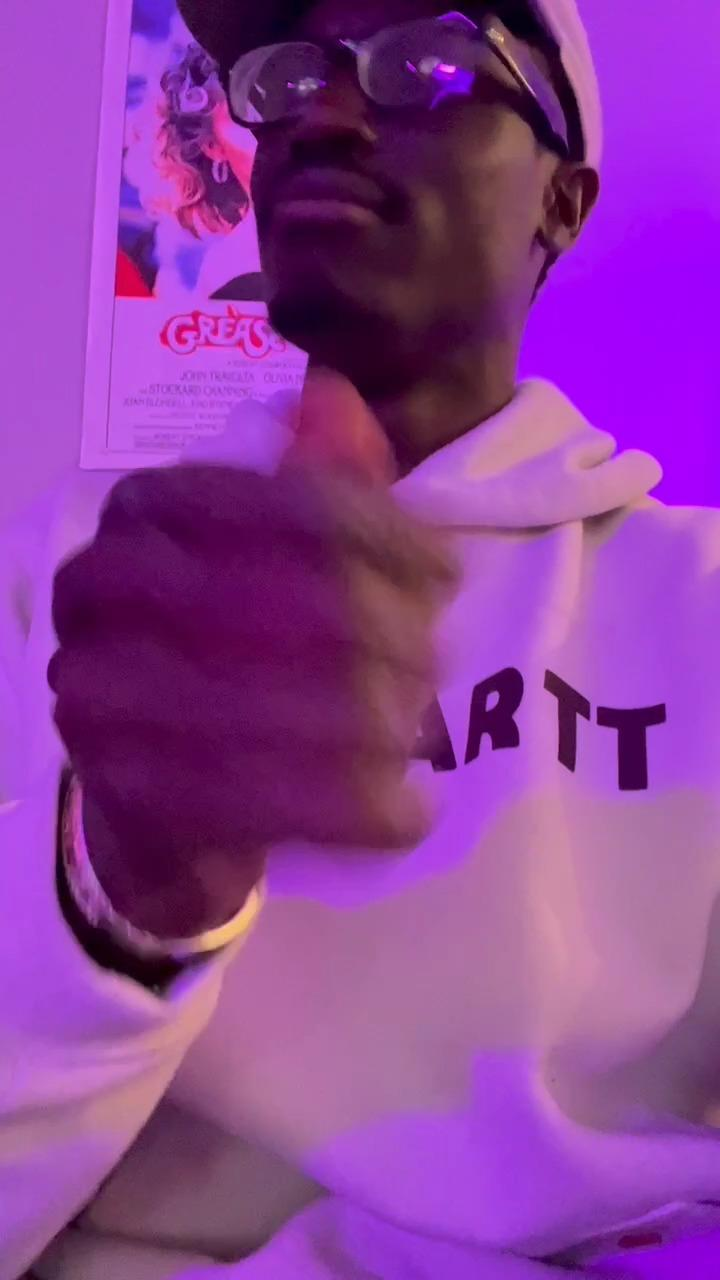Rock: (44, 370, 465, 885)
